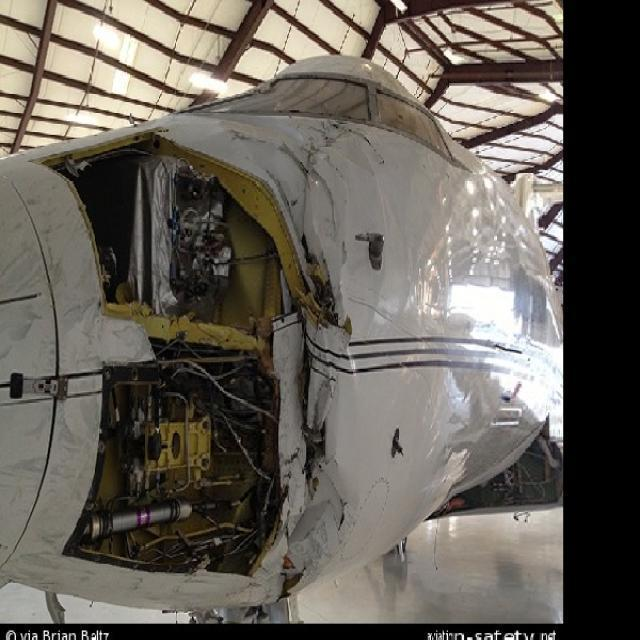crack: (321, 120, 387, 165), (316, 462, 350, 533)
